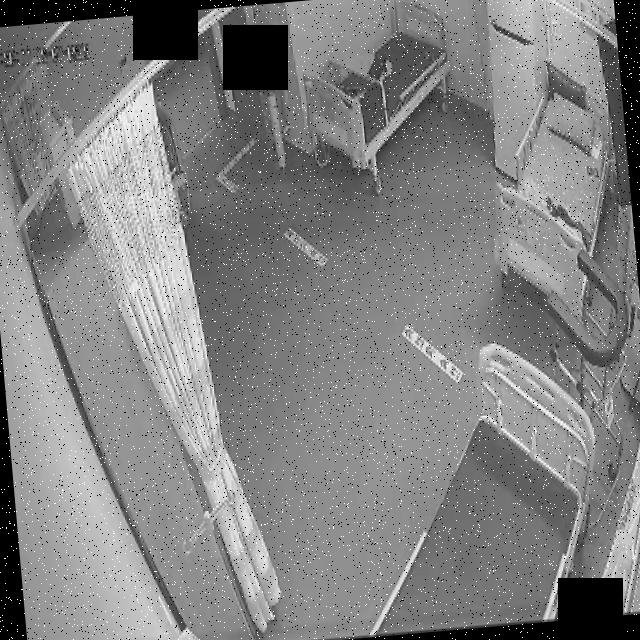bed: (349, 332, 613, 636), (481, 75, 626, 310), (295, 0, 455, 171)
